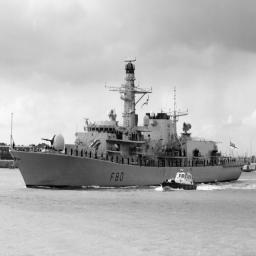Fragata: (11, 55, 248, 194)
